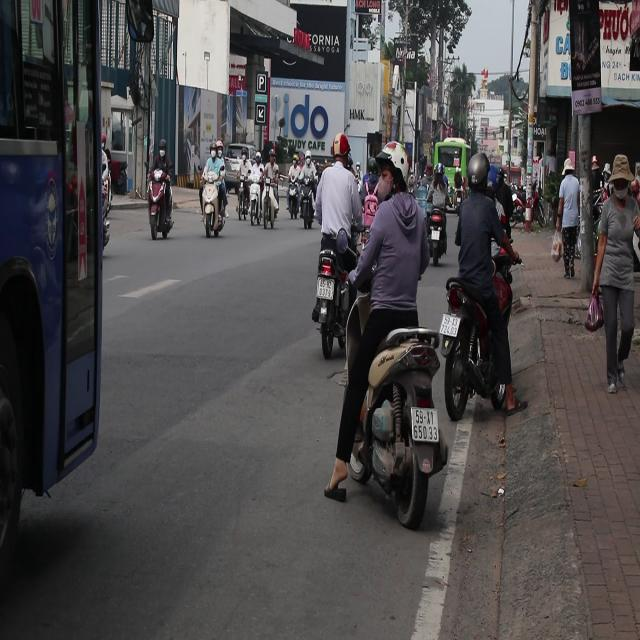bus: (5, 10, 109, 631), (433, 139, 475, 200)
car: (222, 143, 260, 179)
motorbike: (351, 308, 459, 525), (442, 286, 538, 428), (315, 250, 380, 380), (196, 168, 227, 248), (147, 169, 175, 240), (426, 208, 448, 265), (265, 186, 279, 244), (288, 182, 308, 221), (298, 189, 310, 240), (238, 172, 250, 221), (250, 179, 261, 224)
